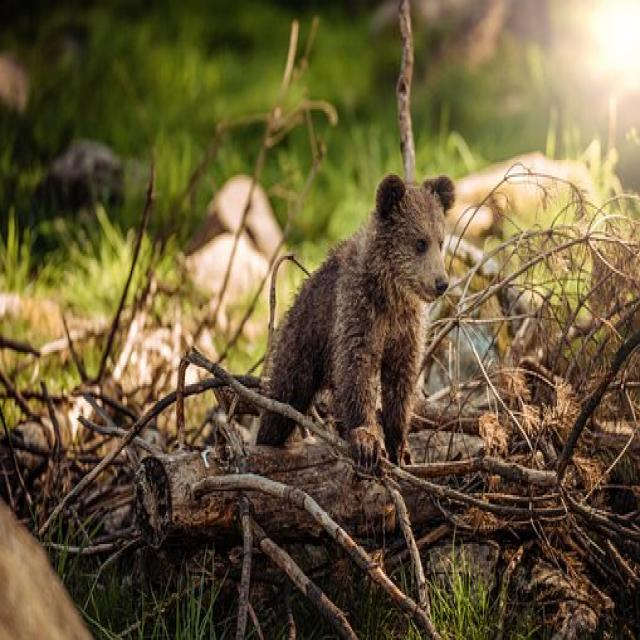Bear: (254, 175, 458, 480)
